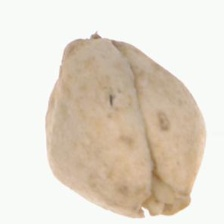L1: (135, 171, 192, 219)
L2: (44, 31, 206, 220)
